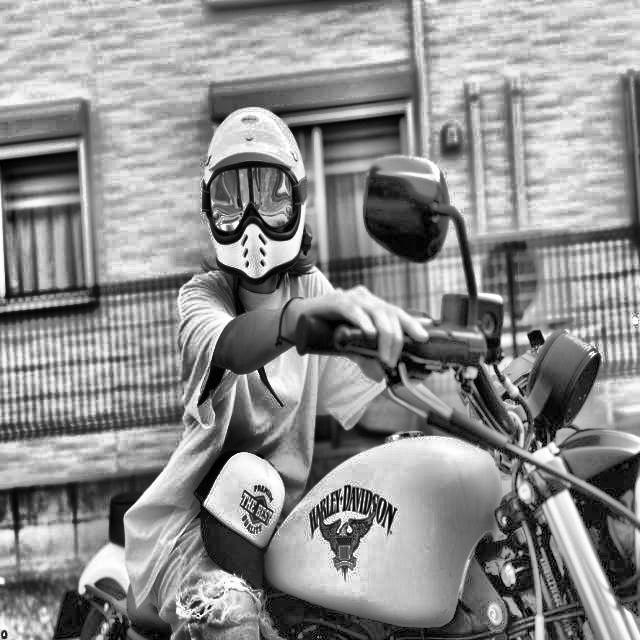Helmet: (196, 101, 310, 290)
